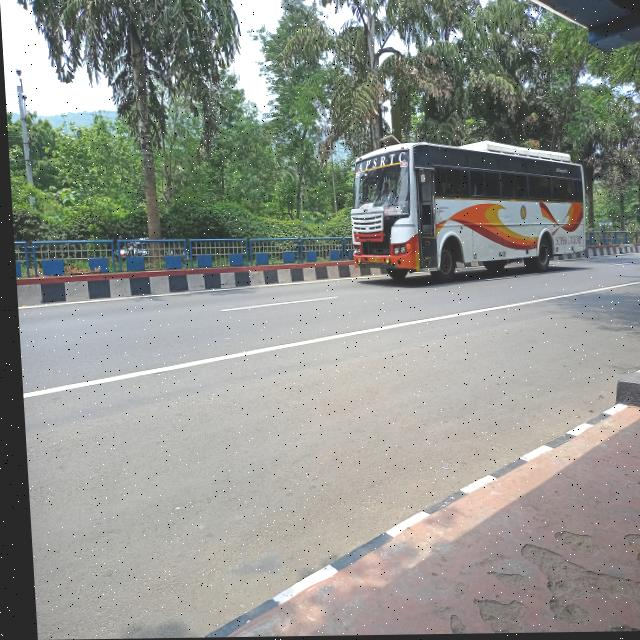bike: (634, 232, 640, 275)
bus: (344, 138, 602, 289)
